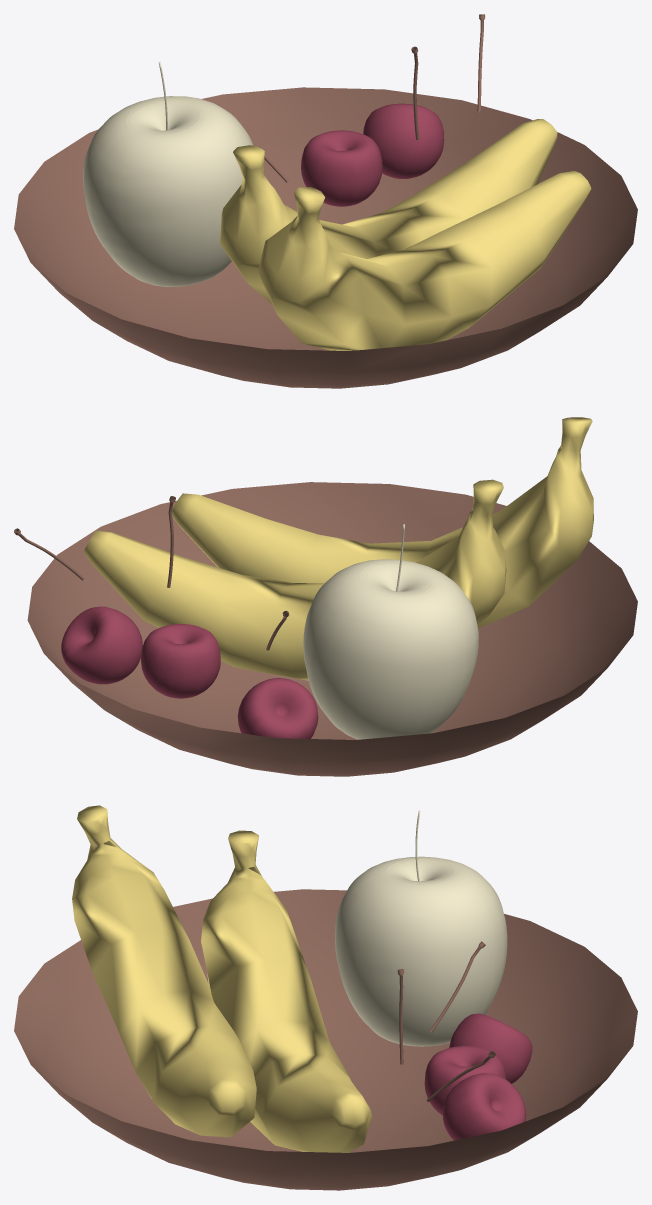
The model's file is fruitPlatter.glb.
3 views of the same model, one above another, from view 1: azimuth 30°, elevation 25°; view 2: azimuth 150°, elevation 25°; view 3: azimuth 270°, elevation 25° (orthographic). The views are drawn at different scales.
Parts seen in each view (by area): view 1: Mesh236__522b840f_ad2e_d043_8612_1ce647e7a847__0, Mesh237__c876967c_ca2e_8b4a_8679_ad86a3fafa03__0, Mesh242__dbd27310_d926_d843_96f4_6fdd92b29da1__0, Mesh238__7002a266_6ab8_274c_9b51_0b10369e4e9d__0, Mesh241__522b840f_ad2e_d043_8612_1ce647e7a847__0; view 2: Mesh236__522b840f_ad2e_d043_8612_1ce647e7a847__0, Mesh237__c876967c_ca2e_8b4a_8679_ad86a3fafa03__0, Mesh242__dbd27310_d926_d843_96f4_6fdd92b29da1__0, Mesh238__7002a266_6ab8_274c_9b51_0b10369e4e9d__0, Mesh241__522b840f_ad2e_d043_8612_1ce647e7a847__0; view 3: Mesh236__522b840f_ad2e_d043_8612_1ce647e7a847__0, Mesh237__c876967c_ca2e_8b4a_8679_ad86a3fafa03__0, Mesh242__dbd27310_d926_d843_96f4_6fdd92b29da1__0, Mesh238__7002a266_6ab8_274c_9b51_0b10369e4e9d__0, Mesh241__522b840f_ad2e_d043_8612_1ce647e7a847__0.
Part boxes in pixels (left/top/right/bottom): Mesh236__522b840f_ad2e_d043_8612_1ce647e7a847__0: left=14, top=87, right=637, bottom=388; Mesh237__c876967c_ca2e_8b4a_8679_ad86a3fafa03__0: left=220, top=119, right=591, bottom=350; Mesh242__dbd27310_d926_d843_96f4_6fdd92b29da1__0: left=83, top=62, right=253, bottom=286; Mesh238__7002a266_6ab8_274c_9b51_0b10369e4e9d__0: left=301, top=103, right=444, bottom=206; Mesh241__522b840f_ad2e_d043_8612_1ce647e7a847__0: left=218, top=14, right=485, bottom=182; Mesh236__522b840f_ad2e_d043_8612_1ce647e7a847__0: left=27, top=482, right=637, bottom=776; Mesh237__c876967c_ca2e_8b4a_8679_ad86a3fafa03__0: left=83, top=417, right=593, bottom=680; Mesh242__dbd27310_d926_d843_96f4_6fdd92b29da1__0: left=303, top=524, right=478, bottom=739; Mesh238__7002a266_6ab8_274c_9b51_0b10369e4e9d__0: left=61, top=606, right=318, bottom=738; Mesh241__522b840f_ad2e_d043_8612_1ce647e7a847__0: left=14, top=496, right=289, bottom=650; Mesh236__522b840f_ad2e_d043_8612_1ce647e7a847__0: left=14, top=889, right=637, bottom=1190; Mesh237__c876967c_ca2e_8b4a_8679_ad86a3fafa03__0: left=72, top=805, right=371, bottom=1152; Mesh242__dbd27310_d926_d843_96f4_6fdd92b29da1__0: left=335, top=810, right=507, bottom=1046; Mesh238__7002a266_6ab8_274c_9b51_0b10369e4e9d__0: left=424, top=1013, right=532, bottom=1140; Mesh241__522b840f_ad2e_d043_8612_1ce647e7a847__0: left=397, top=941, right=495, bottom=1101.
Bounding box in the file's own units: 11.81 × 5.75 × 11.81.
